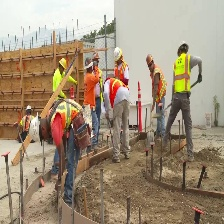helmet: (28, 112, 42, 150), (176, 37, 189, 54), (112, 45, 123, 64), (83, 56, 94, 70), (145, 52, 154, 68), (58, 56, 67, 72)
person: (29, 97, 93, 201), (168, 38, 203, 161), (103, 76, 135, 159), (145, 51, 170, 141), (81, 53, 100, 147)
vest: (172, 54, 195, 99), (48, 99, 80, 130), (104, 78, 128, 114), (150, 68, 168, 105)
